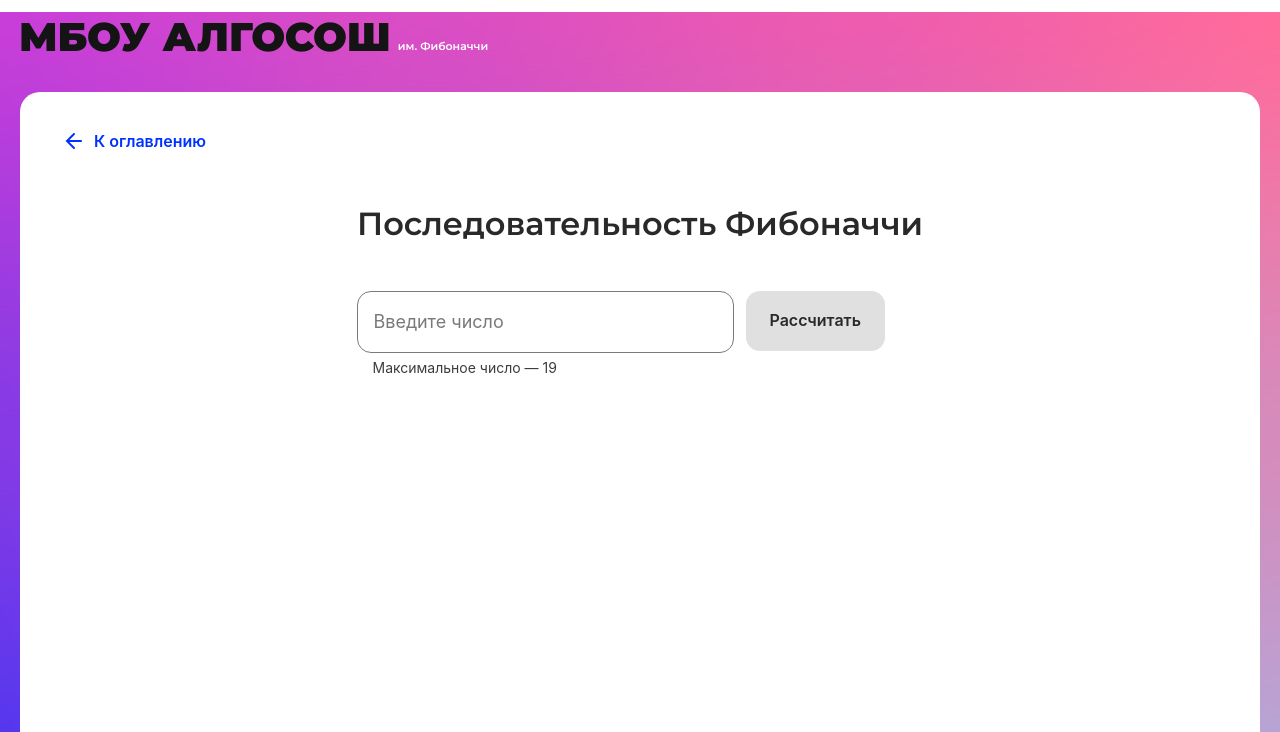
Test: should fibonacci page work correctly › should fibonacci sequence work correctly
Type "4" into the number field with placeholder "Введите число". click: (546, 322)
box: [357,291,734,353]
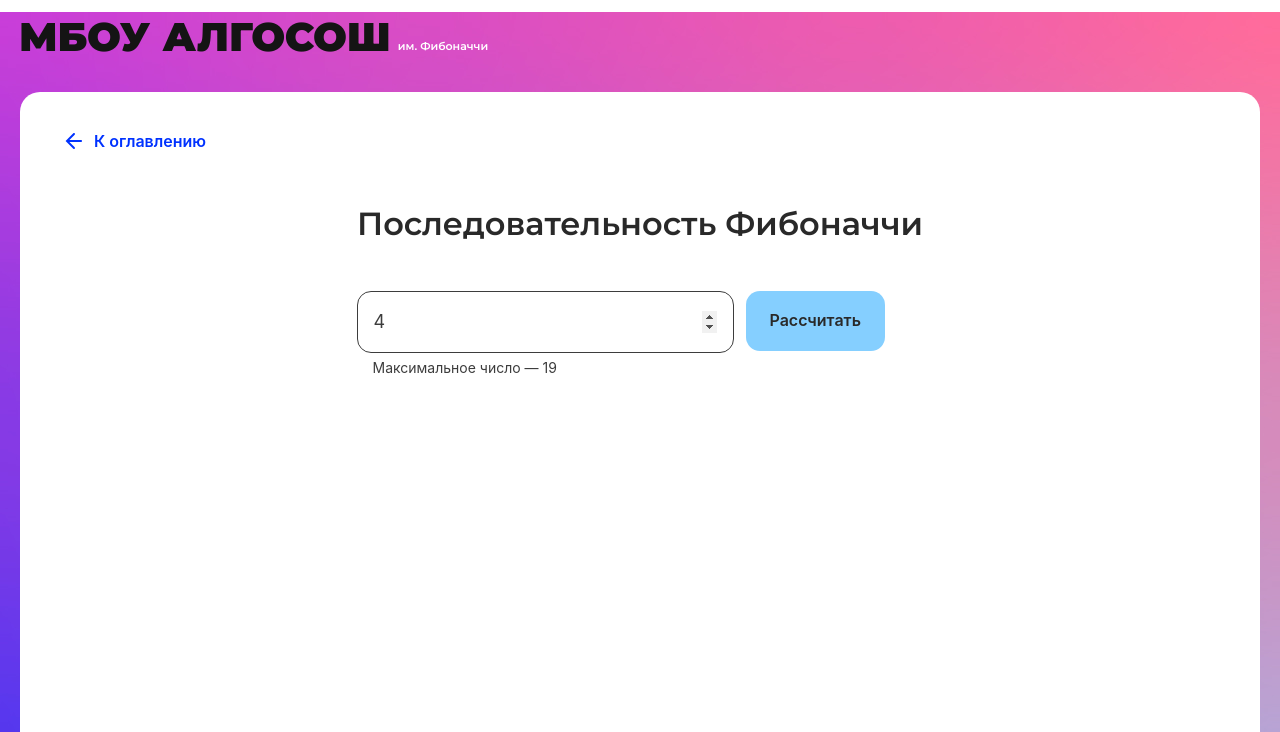
Click the element showing "Рассчитать". click: (816, 321)
box: [746,291,885,351]
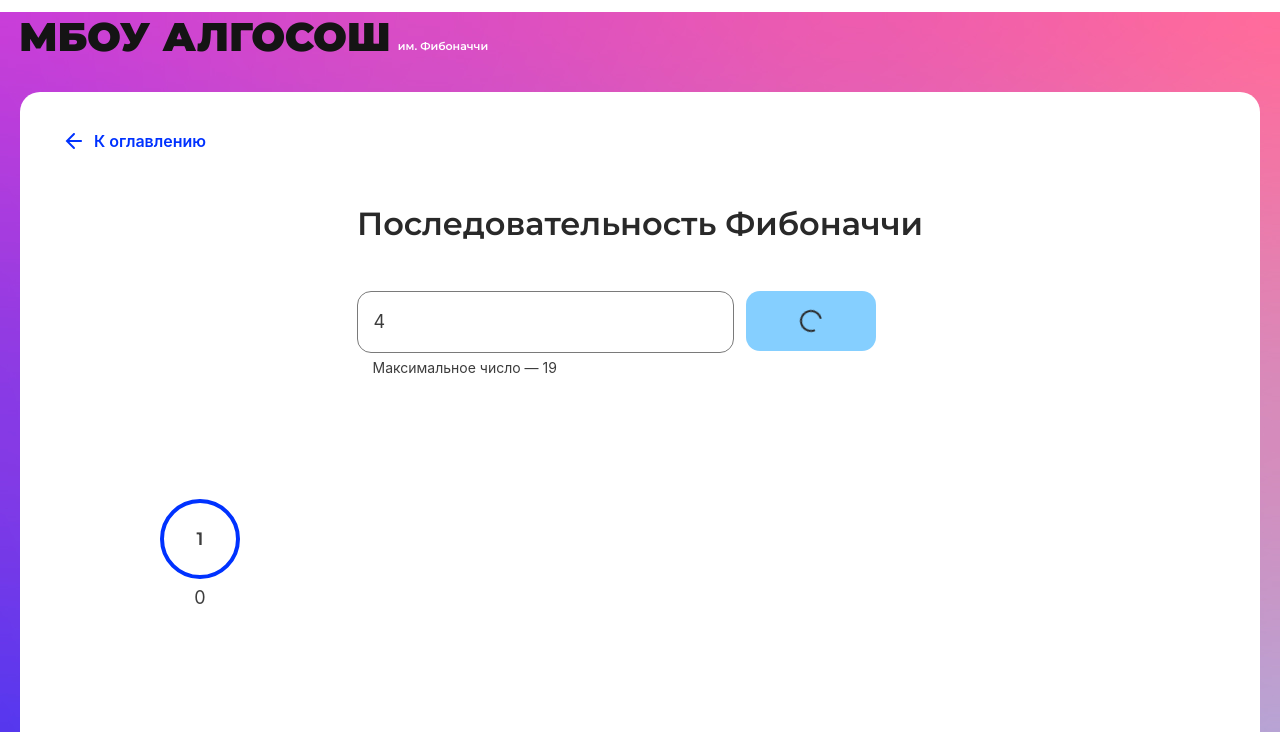
Expected: the text "1" is shown, [197,528,204,550]
Wait "1000"
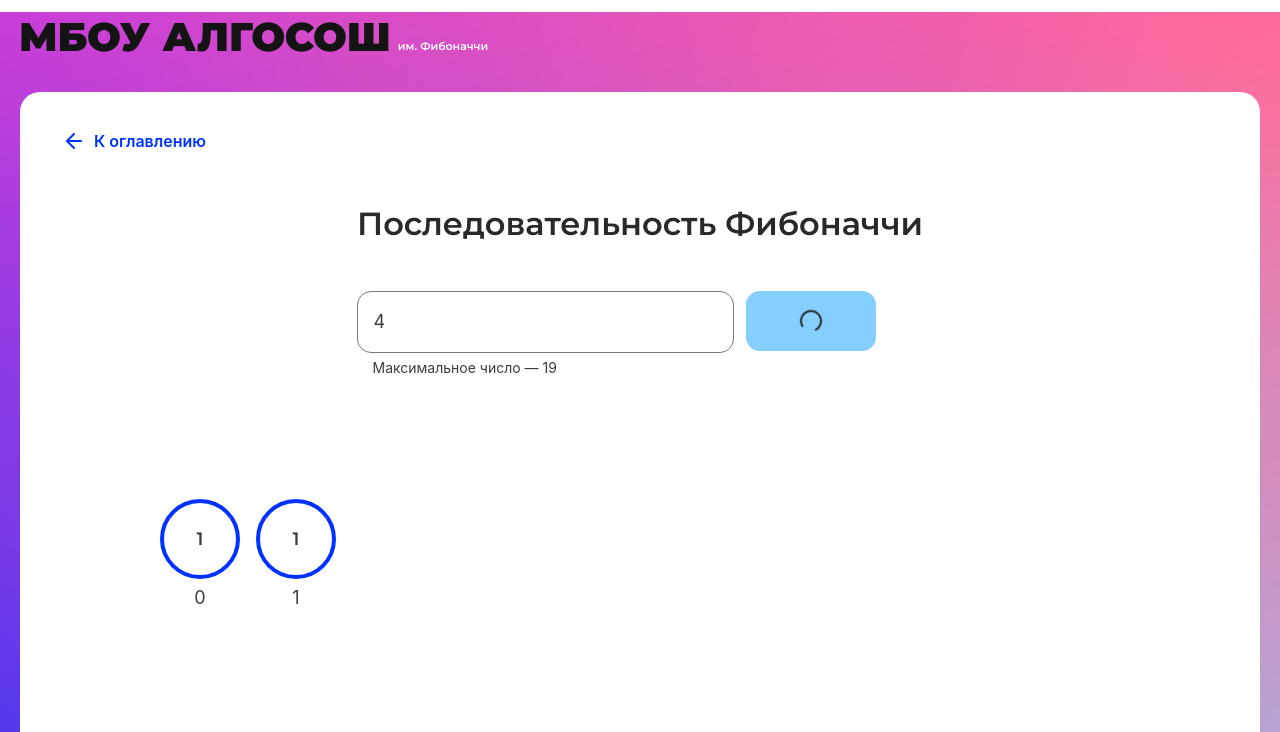
Expected: the 2nd text "1" is shown, [293,528,300,550]
Wait "1000"
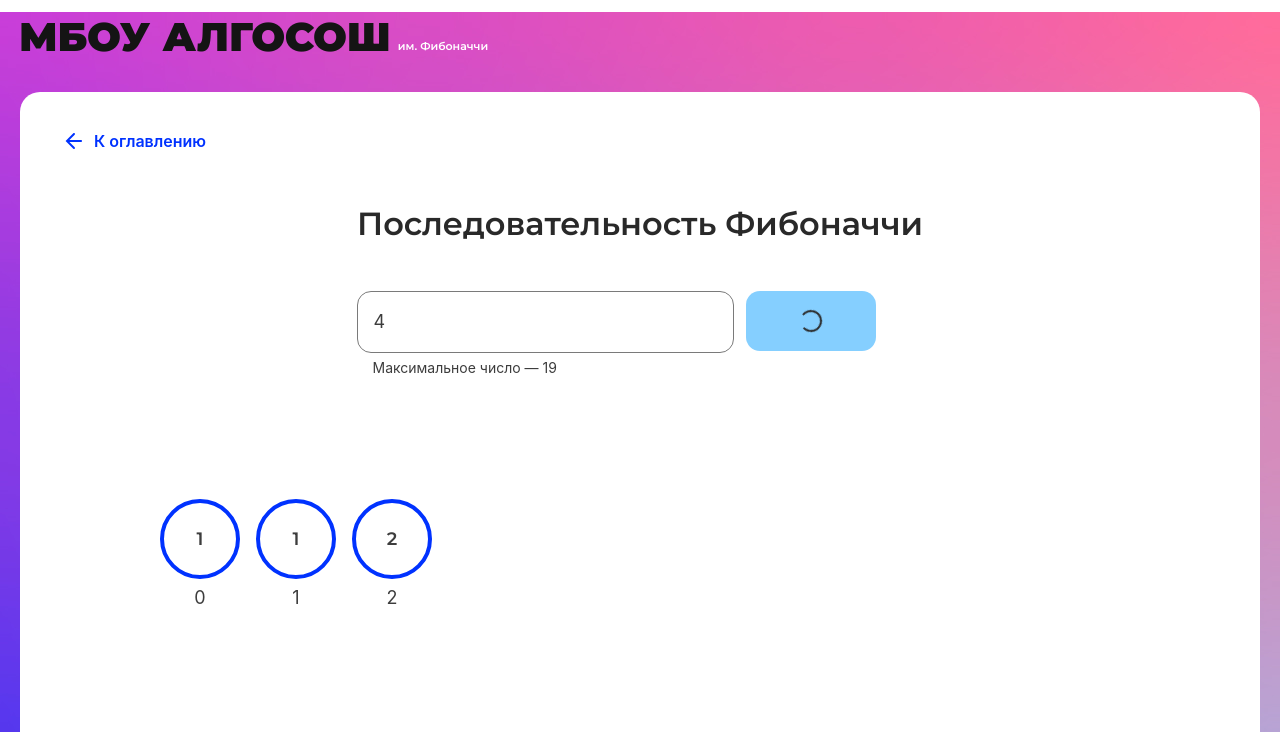
Expected: the 1st text "2" is shown, [387,528,397,550]
Wait "1000"
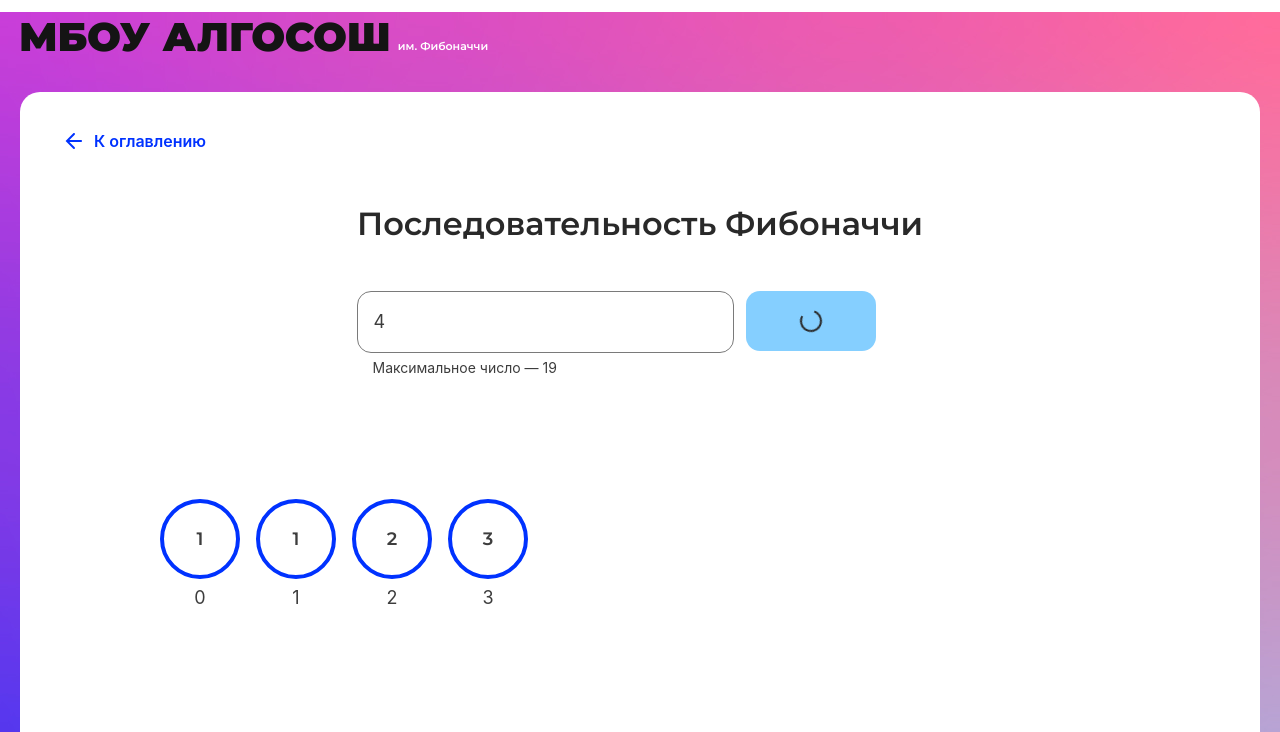
Expected: the 1st text "3" is shown, [483,528,493,550]
Wait "1000"
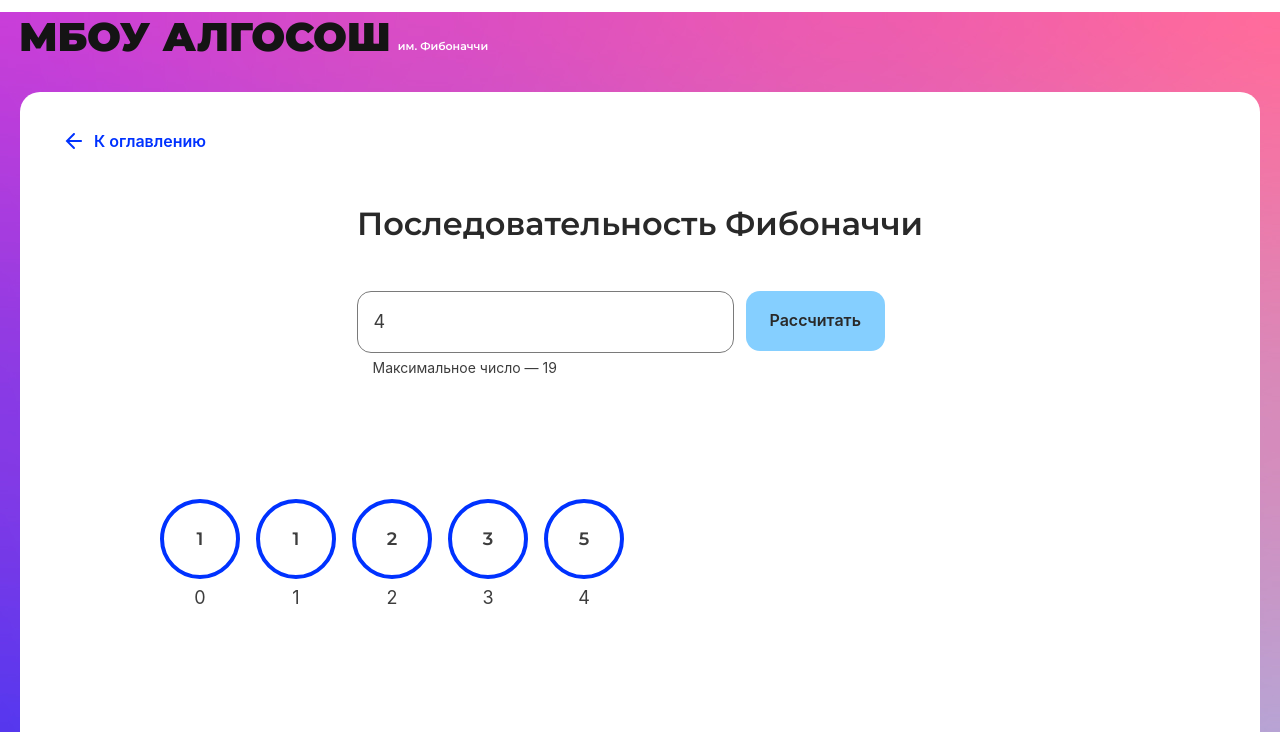
Expected: the text "5" is shown, [579,528,589,550]
